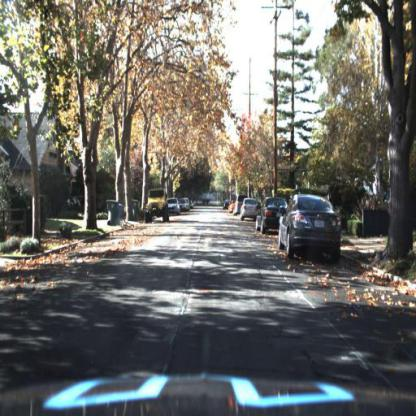car: (276, 185, 344, 274), (253, 194, 280, 241), (140, 186, 170, 226), (239, 194, 258, 221), (232, 195, 243, 218), (169, 196, 182, 215), (233, 194, 243, 218), (229, 196, 238, 219), (177, 198, 188, 214), (180, 195, 188, 214)
